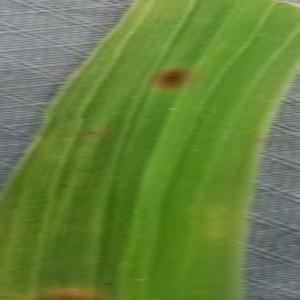Brown_Spot: (144, 61, 195, 94), (82, 125, 98, 139), (56, 179, 72, 190), (102, 279, 115, 289), (77, 114, 91, 122)
